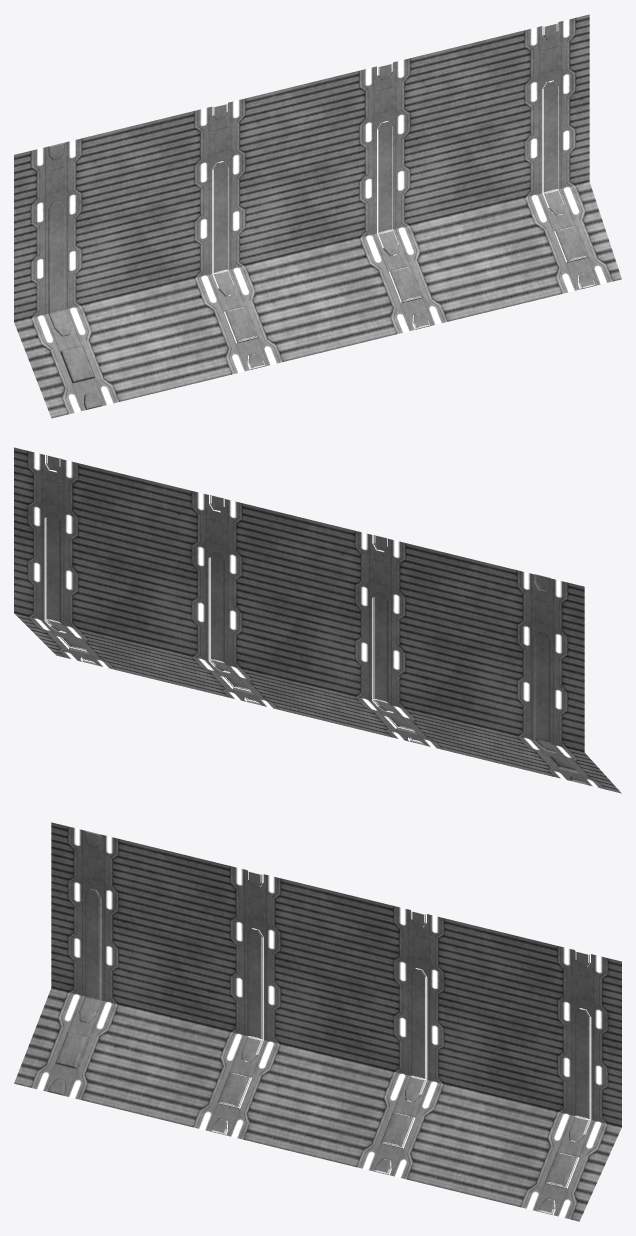
File: wallCleanB.fbx
The picture shows the model from 3 angles, top to bottom: view 1: azimuth 30°, elevation 25°; view 2: azimuth 150°, elevation 25°; view 3: azimuth 330°, elevation 25°; orthographic projection.
Parts seen in each view (by area): view 1: Wall_Clean_w_Bottom; view 2: Wall_Clean_w_Bottom; view 3: Wall_Clean_w_Bottom.
Boxes of the visible parts, bbox=[...] form: Wall_Clean_w_Bottom: bbox=[14, 14, 621, 418]; Wall_Clean_w_Bottom: bbox=[14, 447, 621, 793]; Wall_Clean_w_Bottom: bbox=[14, 822, 621, 1221].
Size of the model in its own units: 764 by 299 by 88.12.
